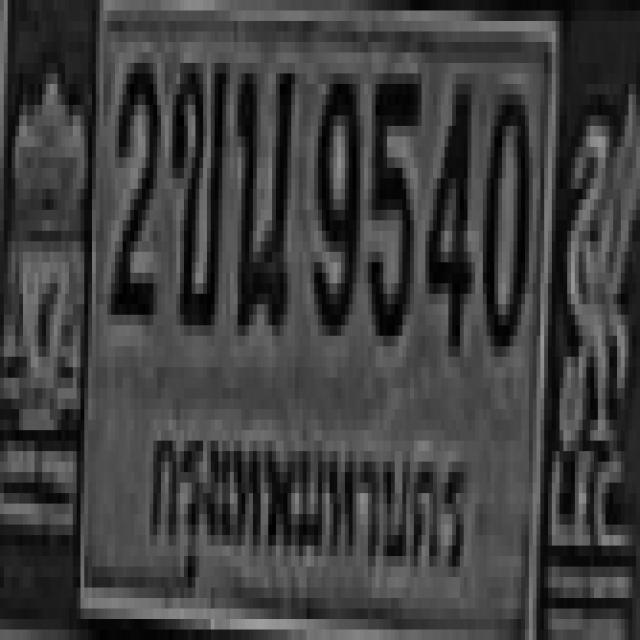0: (481, 84, 527, 346)
11KhorKhai: (169, 52, 226, 326)
2: (107, 52, 157, 315)
34NorNu: (234, 58, 291, 320)
4: (426, 74, 468, 346)
5: (364, 63, 418, 336)
9: (310, 63, 356, 325)
Bangkok: (136, 406, 475, 599)
